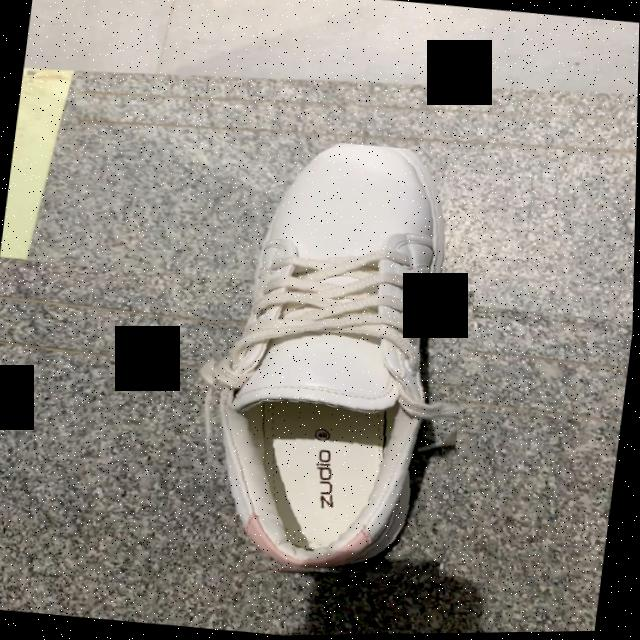shoe: (212, 144, 461, 573)
